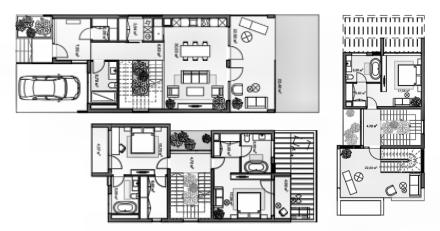door: (106, 154, 124, 172), (50, 43, 69, 60), (225, 44, 244, 61), (225, 66, 244, 82), (209, 155, 226, 171), (77, 27, 95, 42), (88, 59, 106, 74), (260, 178, 276, 194), (155, 156, 171, 171), (154, 173, 169, 189), (238, 144, 253, 157)
window: (270, 139, 276, 158), (150, 217, 164, 223)
